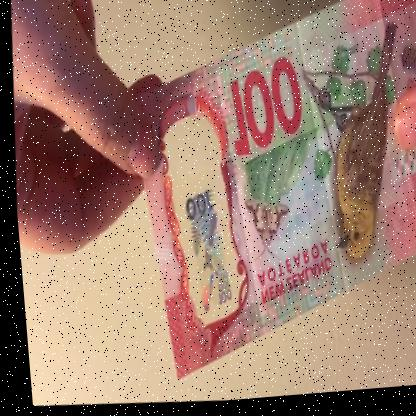100B: (173, 168, 239, 319)
